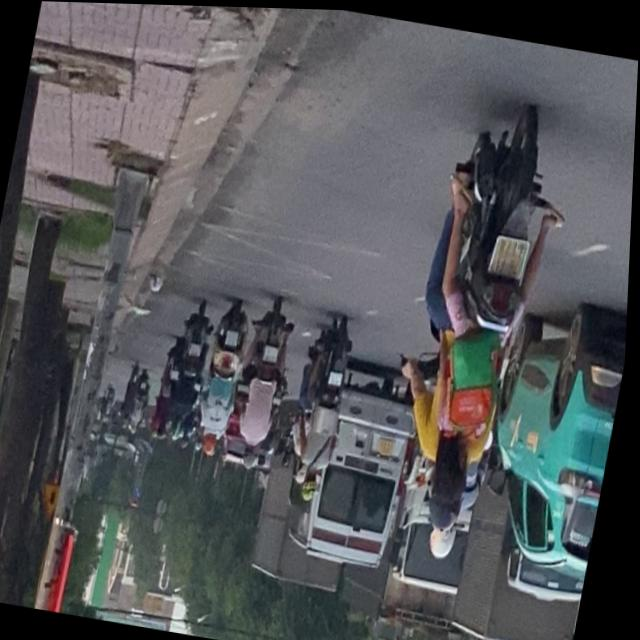helmet: (427, 484, 470, 530), (431, 517, 465, 561)
licenseplate: (375, 86, 584, 572)
motorcyclist: (432, 414, 481, 499)
nohelmet: (492, 234, 532, 277)
